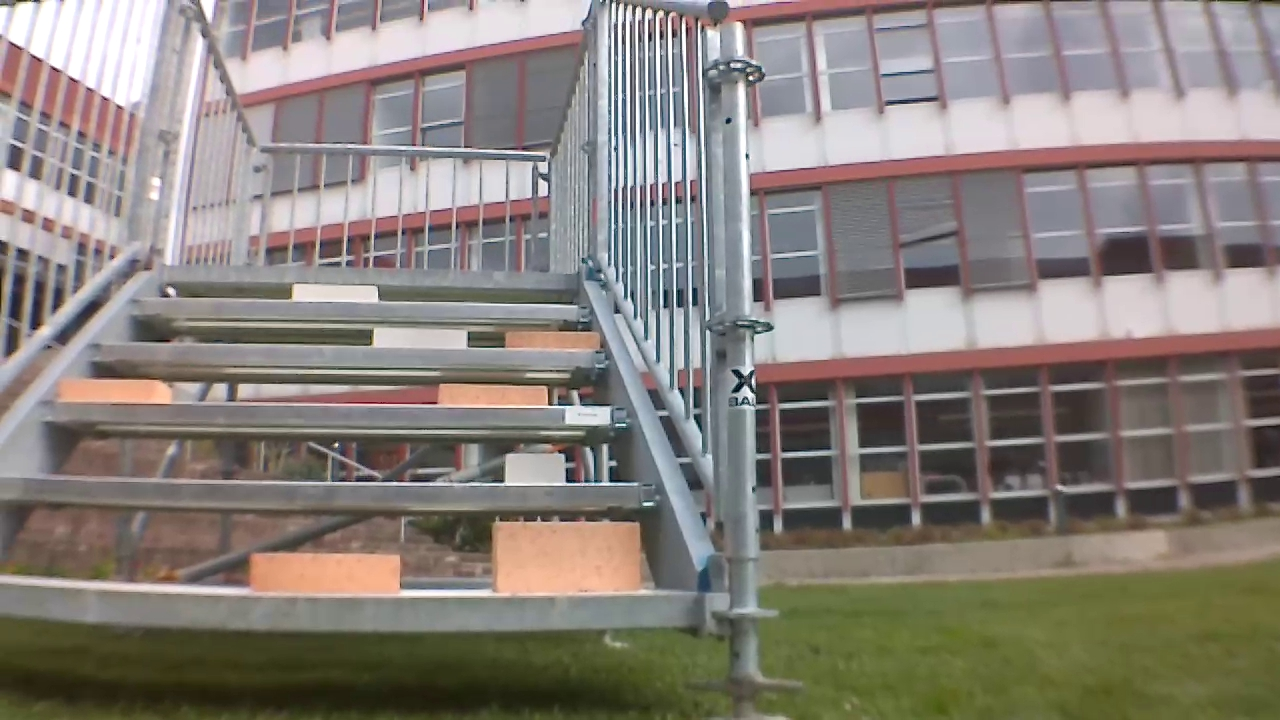brick: (488, 510, 644, 590), (235, 545, 406, 590), (56, 375, 169, 402), (433, 381, 550, 404), (369, 324, 471, 349), (502, 447, 566, 483), (292, 279, 380, 300), (500, 331, 602, 347)
edge: (0, 583, 706, 626), (4, 477, 659, 504), (90, 338, 607, 371), (31, 401, 636, 425), (126, 299, 592, 319), (156, 268, 582, 285)
stairs: (0, 0, 759, 665)
steps: (0, 267, 702, 620)
